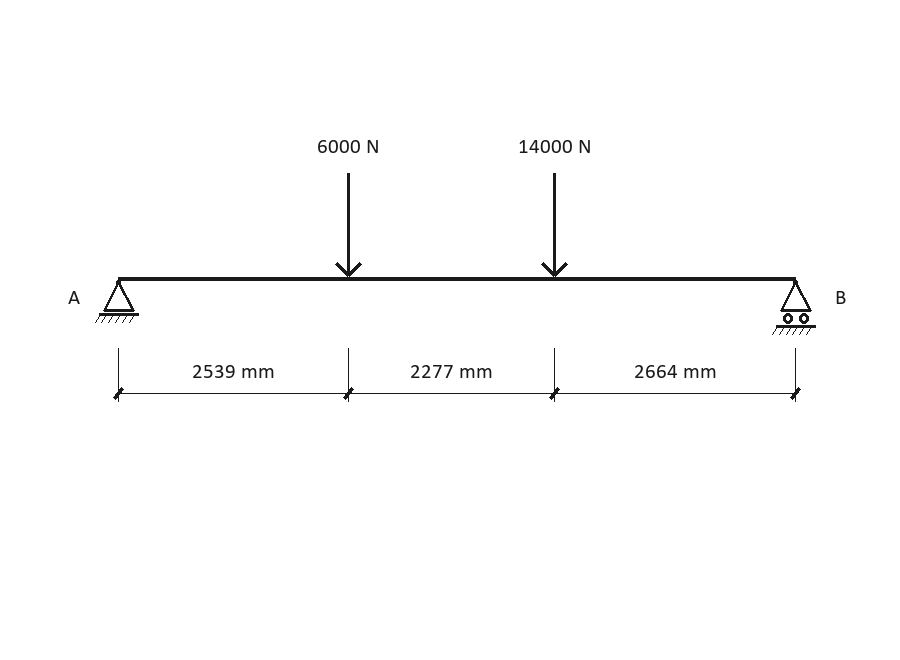pin_support: (95, 280, 139, 323)
point_load: (335, 173, 362, 277), (541, 173, 568, 277)
roller_support: (772, 280, 816, 335)
